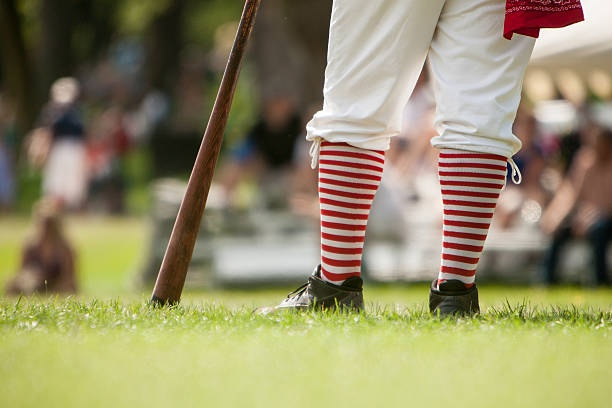bita: (146, 1, 263, 306)
